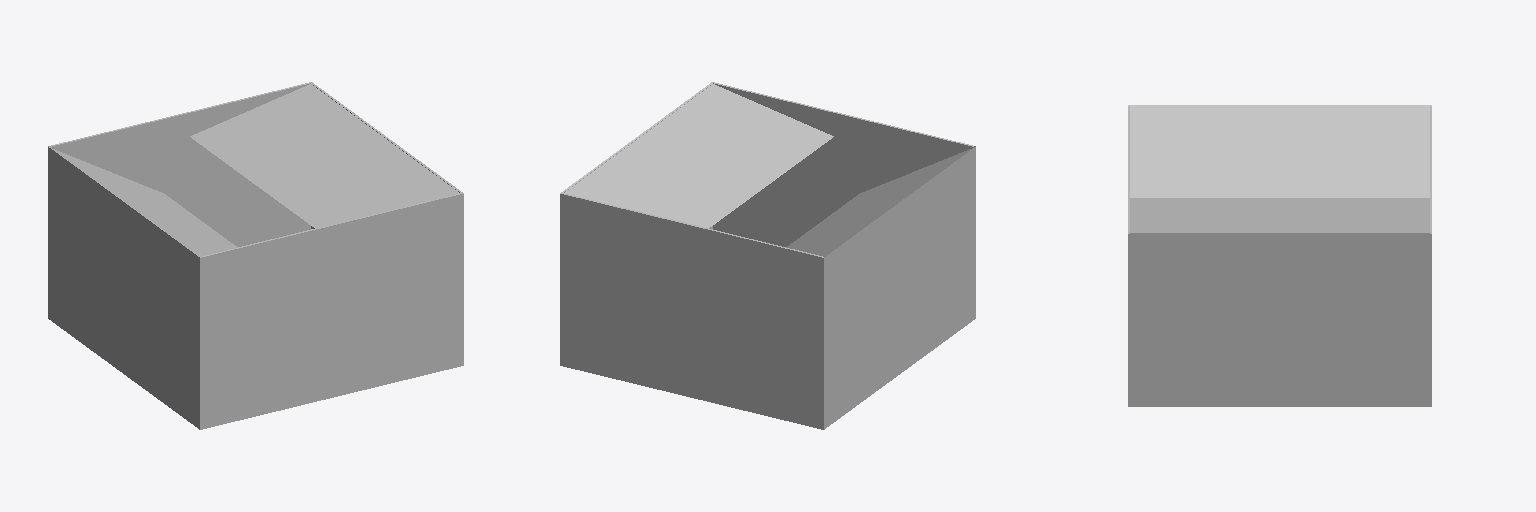
Rendered from Box_paper02c.obj.
3 renders of one model, left to right at view 1: azimuth 30°, elevation 25°; view 2: azimuth 150°, elevation 25°; view 3: azimuth 270°, elevation 25°, orthographic.
Parts seen in each view (by area): view 1: BoxCardBoard02c_LOD0_Cube.006; view 2: BoxCardBoard02c_LOD0_Cube.006; view 3: BoxCardBoard02c_LOD0_Cube.006.
Boxes of the visible parts, x1,y1,x2,y2 form: BoxCardBoard02c_LOD0_Cube.006: [48, 82, 463, 429]; BoxCardBoard02c_LOD0_Cube.006: [560, 82, 975, 429]; BoxCardBoard02c_LOD0_Cube.006: [1128, 105, 1431, 406].
Bounding box in the file's own units: 0.8289 × 0.5168 × 0.8289.